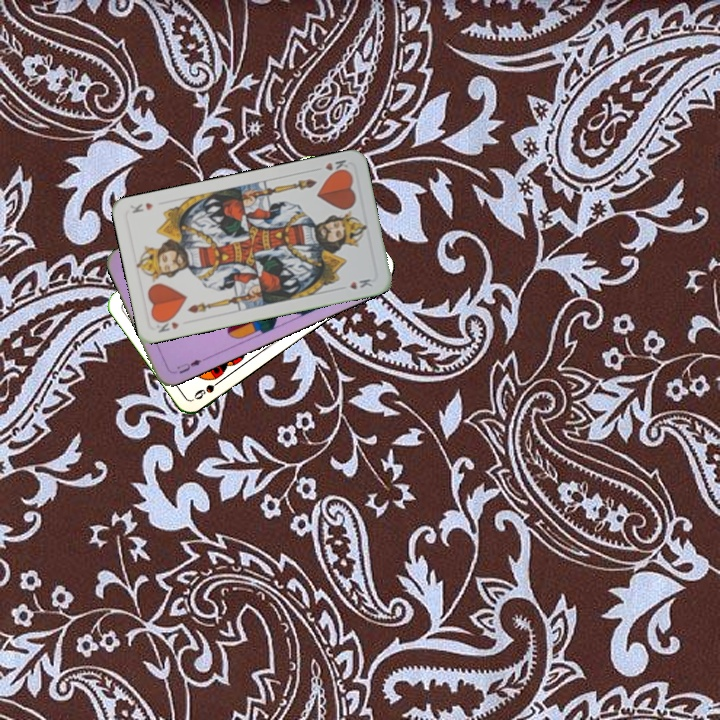EU: (172, 353, 208, 376)
HK: (321, 155, 352, 177), (152, 314, 182, 335)
S9: (190, 374, 226, 402)
